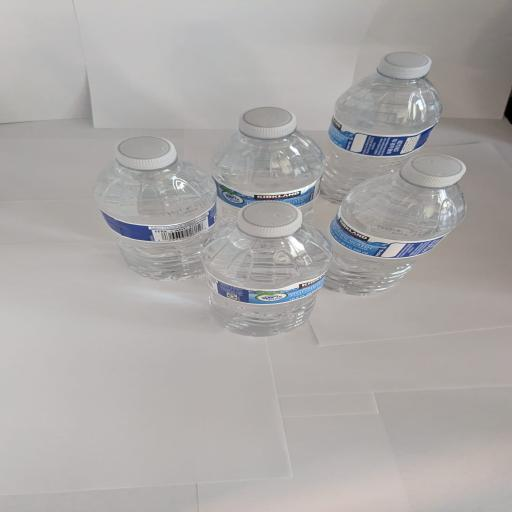waterbottle: (326, 155, 465, 294), (322, 53, 441, 202), (94, 137, 216, 279), (203, 202, 332, 336), (212, 108, 324, 221)
